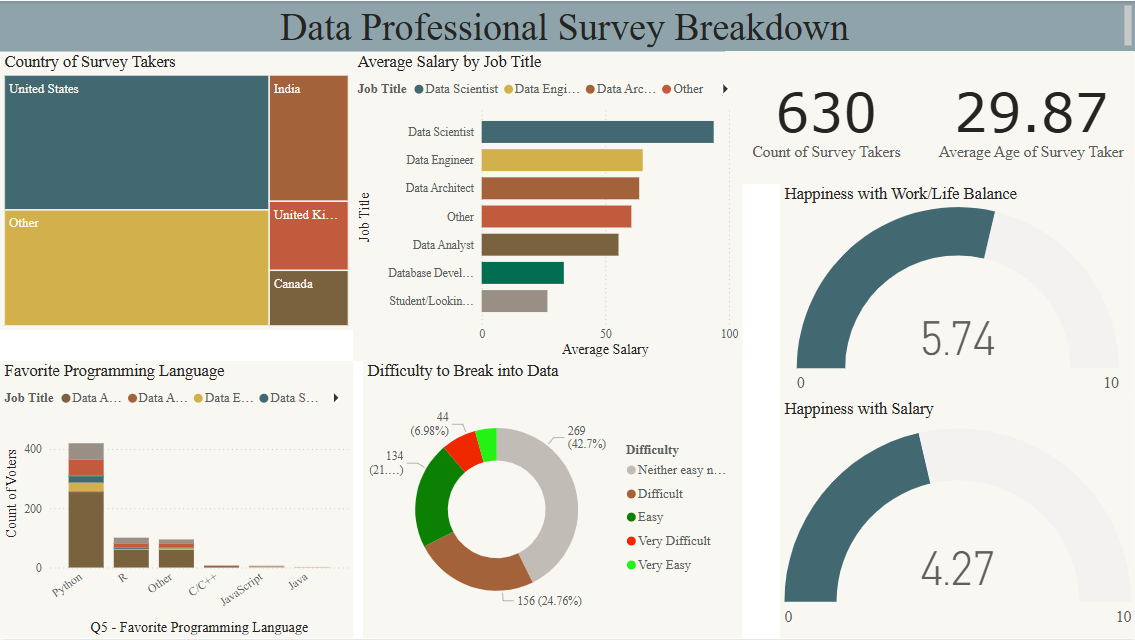

The dashboard page shown, as its layout file describes it:
{"tool":"powerbi","page":{"name":"Page 1","canvas":[1280,720],"ordinal":0},"visuals":[{"type":"textbox","box":[0,0,1280,57.1],"z":0},{"type":"card","fields":{"Values":["Count(Data Professional Survey.Unique ID)"]},"box":[816.7,56.7,228.3,150],"z":1000},{"type":"card","fields":{"Values":["Avg(Data Professional Survey.Q10 - Current Age)"]},"box":[1045,56.7,235,150],"z":2000},{"type":"barChart","title":"Average Salary by Job Title","fields":{"Category":["Data Professional Survey.Q1 - Which Title Best Fits your Current Role?.1"],"Y":["Avg(Data Professional Survey.Average Salary)"],"Series":["Data Professional Survey.Q1 - Which Title Best Fits your Current Role?.1"]},"box":[397.5,57.7,438.8,348],"z":3000},{"type":"columnChart","title":"Favorite Programming Language","fields":{"Category":["Data Professional Survey.Q5 - Favorite Programming Language.1"],"Y":["CountNonNull(Data Professional Survey.Unique ID)"],"Series":["Data Professional Survey.Q1 - Which Title Best Fits your Current Role?.1"]},"box":[0,405.8,397.5,313.4],"z":4000},{"type":"treemap","title":"Country of Survey Takers","fields":{"Group":["Data Professional Survey.Q11 - Which Country do you live in?.1"],"Values":["CountNonNull(Data Professional Survey.Q11 - Which Country do you live in?.1)"]},"box":[0,57.7,397.5,313.4],"z":5000},{"type":"gauge","title":"Happiness with Salary","fields":{"Y":["Avg(Data Professional Survey.Q6 - How Happy are you in your Current Position with the following? (Salary))"],"MinValue":["Min(Data Professional Survey.Q6 - How Happy are you in your Current Position with the following? (Salary))"],"MaxValue":["Max(Data Professional Survey.Q6 - How Happy are you in your Current Position with the following? (Salary))"]},"box":[879.2,448.7,400.8,270.5],"z":6000},{"type":"gauge","title":"Happiness with Work/Life Balance","fields":{"Y":["Avg(Data Professional Survey.Q6 - How Happy are you in your Current Position with the following? (Work/Life Balance))"],"MinValue":["Min(Data Professional Survey.Q6 - How Happy are you in your Current Position with the following? (Work/Life Balance))"],"MaxValue":["Max(Data Professional Survey.Q6 - How Happy are you in your Current Position with the following? (Work/Life Balance))1"]},"box":[879.2,206.2,400.8,242.5],"z":7000},{"type":"donutChart","title":"Difficulty to Break into Data","fields":{"Category":["Data Professional Survey.Q7 - How difficult was it for you to break into Data?"],"Y":["CountNonNull(Data Professional Survey.Q7 - How difficult was it for you to break into Data?)"]},"box":[409.1,405.8,427.2,313.4],"z":8000}]}

Visuals, with their boxes in screenshot pixels (x1, y1, x2, y2), scaled from the page's 1280x720 canvas onto the 1135x640 screenshot:
textbox: left=0, top=0, right=1134, bottom=51
card - Count(Data Professional Survey.Unique ID): left=724, top=50, right=927, bottom=184
card - Avg(Data Professional Survey.Q10 - Current Age): left=927, top=50, right=1134, bottom=184
"Average Salary by Job Title" barChart: left=352, top=51, right=742, bottom=361
"Favorite Programming Language" columnChart: left=0, top=361, right=352, bottom=639
"Country of Survey Takers" treemap: left=0, top=51, right=352, bottom=330
"Happiness with Salary" gauge: left=780, top=399, right=1134, bottom=639
"Happiness with Work/Life Balance" gauge: left=780, top=183, right=1134, bottom=399
"Difficulty to Break into Data" donutChart: left=363, top=361, right=742, bottom=639
